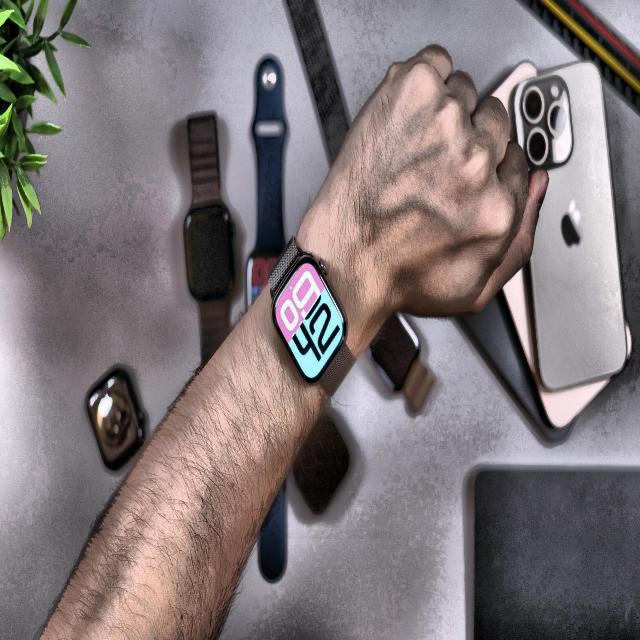Electronic watch: (269, 237, 354, 394)
